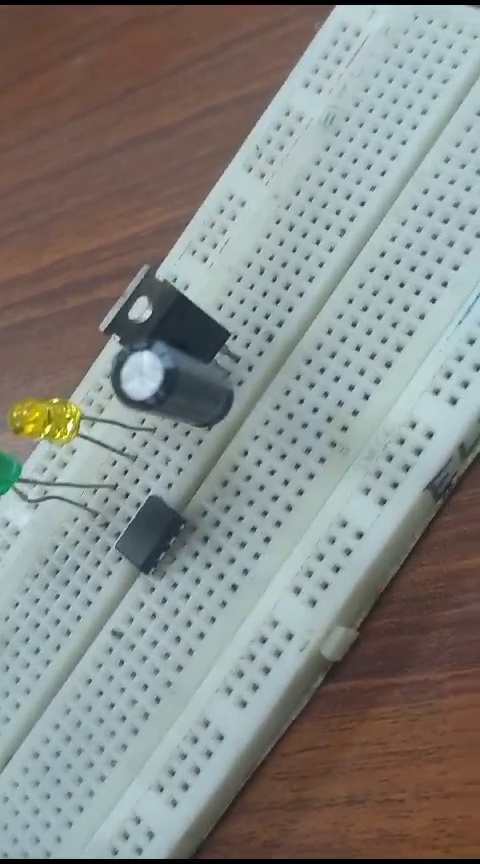IC: (92, 505, 184, 564)
LED: (8, 384, 151, 464), (4, 451, 118, 527)
capacitor: (110, 337, 234, 436)
voltage regulator: (90, 259, 232, 349)
